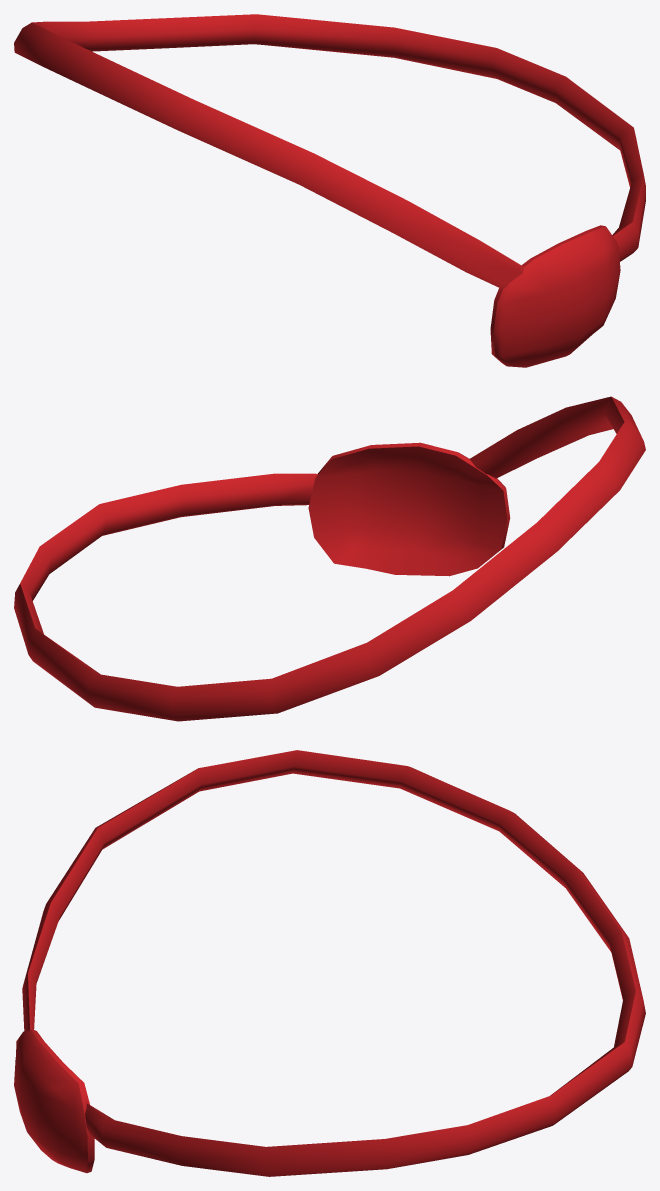
Rendered from Mask_05_02.fbx.
The picture shows the model from 3 angles, top to bottom: view 1: azimuth 30°, elevation 25°; view 2: azimuth 150°, elevation 25°; view 3: azimuth 270°, elevation 25°; orthographic projection. The views are drawn at different scales.
Parts seen in each view (by area): view 1: Mask_05_02; view 2: Mask_05_02; view 3: Mask_05_02.
Part boxes in pixels (x1,y1,x2,y2): Mask_05_02: (14,14,645,367); Mask_05_02: (14,396,645,721); Mask_05_02: (14,750,645,1176).
Size of the model in its own units: 34.72 by 17.78 by 38.55.
